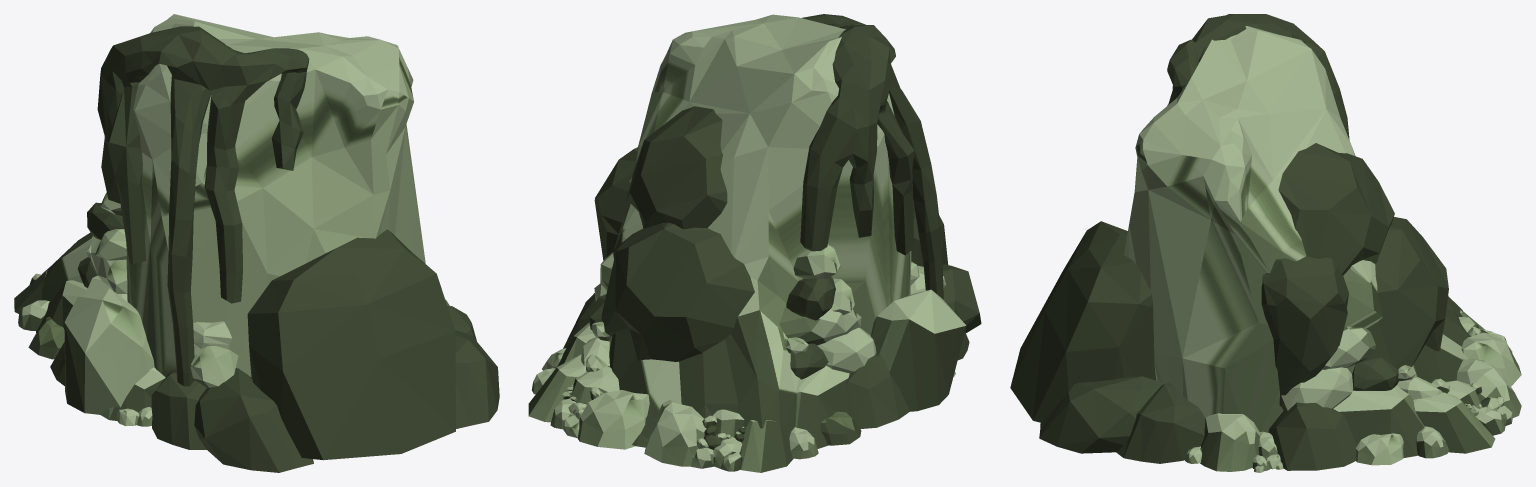
File: EA_Swamp_Stones_01c.glb
The picture shows the model from 3 angles, left to right: view 1: azimuth 30°, elevation 25°; view 2: azimuth 150°, elevation 25°; view 3: azimuth 270°, elevation 25°; orthographic projection. The views are drawn at different scales.
Visible parts, largest first — view 1: EA_Swamp_Stones_01c; view 2: EA_Swamp_Stones_01c; view 3: EA_Swamp_Stones_01c.
Part boxes in pixels (x1,y1,x2,y2): EA_Swamp_Stones_01c: (14,14,499,472); EA_Swamp_Stones_01c: (528,14,981,472); EA_Swamp_Stones_01c: (1010,14,1521,472).
Bounding box in the file's own units: 14.44 × 13.25 × 18.21.
1 material, 1 textured.
